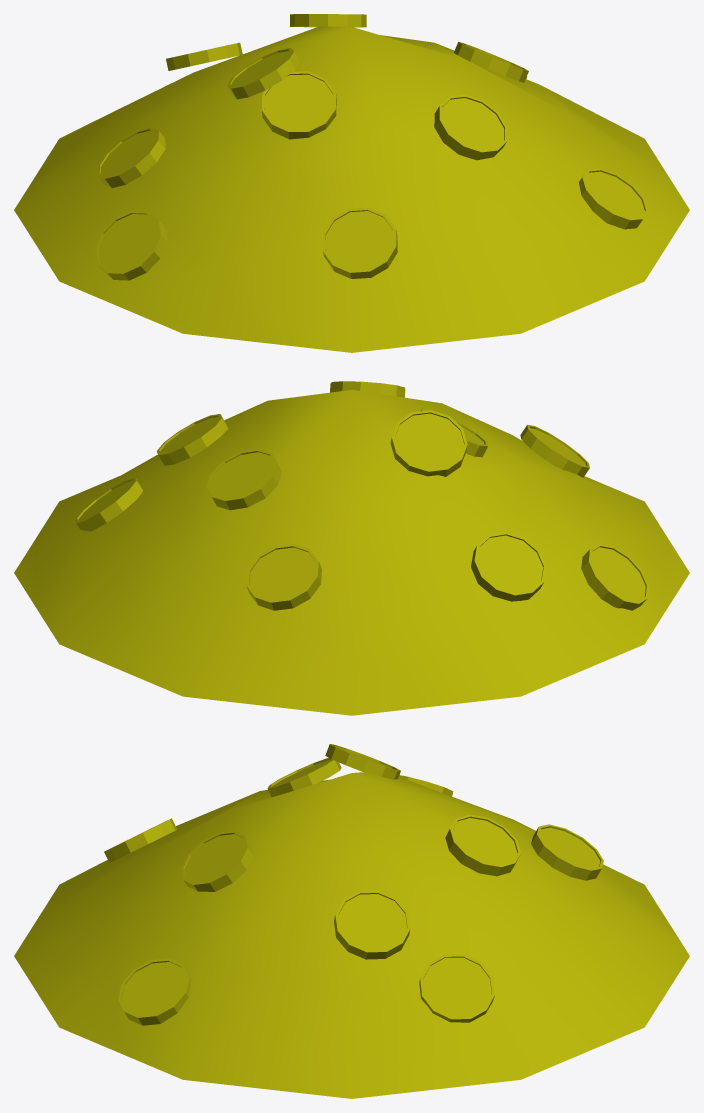
Rendered from Coin_Pile.fbx.
3 views of the same model, one above another, from view 1: azimuth 30°, elevation 25°; view 2: azimuth 150°, elevation 25°; view 3: azimuth 270°, elevation 25° (orthographic).
Visible parts, largest first — view 1: Coin Pile; view 2: Coin Pile; view 3: Coin Pile.
Boxes of the visible parts, x1,y1,x2,y2 form: Coin Pile: (14, 14, 689, 352); Coin Pile: (14, 381, 689, 715); Coin Pile: (14, 744, 689, 1098).
Bounding box in the file's own units: 25.16 × 7.52 × 25.16.
